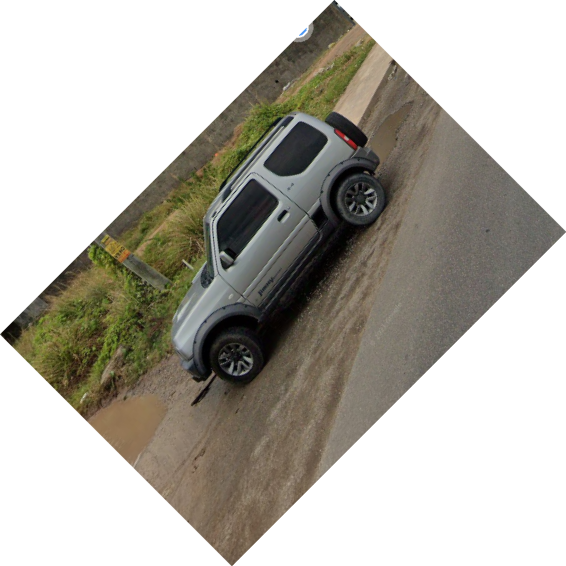car: (168, 113, 387, 388)
